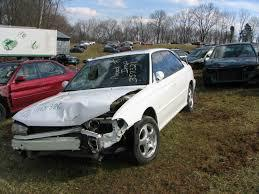Headlight-Damage: (83, 114, 118, 136)
bonnet-dent: (20, 89, 112, 125)
front-bumper-dent: (16, 133, 98, 156)
